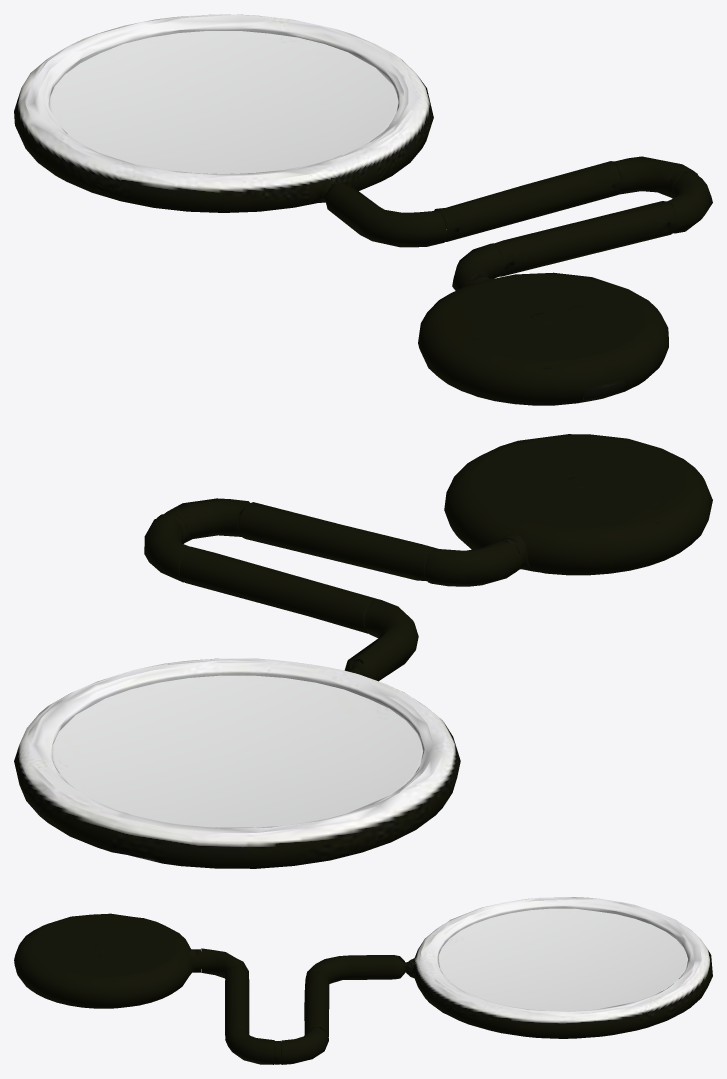
Rendered from 25 - EKFÄNN Mirror with integrated lighting - dimmable wall mountedblack.glb.
3 renders of one model, top to bottom at view 1: azimuth 30°, elevation 25°; view 2: azimuth 150°, elevation 25°; view 3: azimuth 270°, elevation 25°, orthographic. The views are drawn at different scales.
Visible parts, largest first — view 1: ASY_ART_90594006_S01_NV01, ASY_LPT04_90594006_S01_NV01, ASY_LPT01_90594006_S01_NV01; view 2: ASY_ART_90594006_S01_NV01, ASY_LPT04_90594006_S01_NV01, ASY_LPT01_90594006_S01_NV01; view 3: ASY_ART_90594006_S01_NV01, ASY_LPT04_90594006_S01_NV01, ASY_LPT01_90594006_S01_NV01.
Boxes of the visible parts, x1,y1,x2,y2 form: ASY_ART_90594006_S01_NV01: [14, 14, 433, 212]; ASY_LPT04_90594006_S01_NV01: [418, 272, 668, 405]; ASY_LPT01_90594006_S01_NV01: [324, 156, 712, 290]; ASY_ART_90594006_S01_NV01: [14, 658, 460, 868]; ASY_LPT04_90594006_S01_NV01: [444, 434, 712, 575]; ASY_LPT01_90594006_S01_NV01: [144, 498, 521, 681]; ASY_ART_90594006_S01_NV01: [406, 897, 712, 1038]; ASY_LPT04_90594006_S01_NV01: [14, 913, 201, 1008]; ASY_LPT01_90594006_S01_NV01: [201, 948, 407, 1064].
Size of the model in its own units: 0.252 by 0.0246 by 0.4644.
6 materials, 6 textured.
